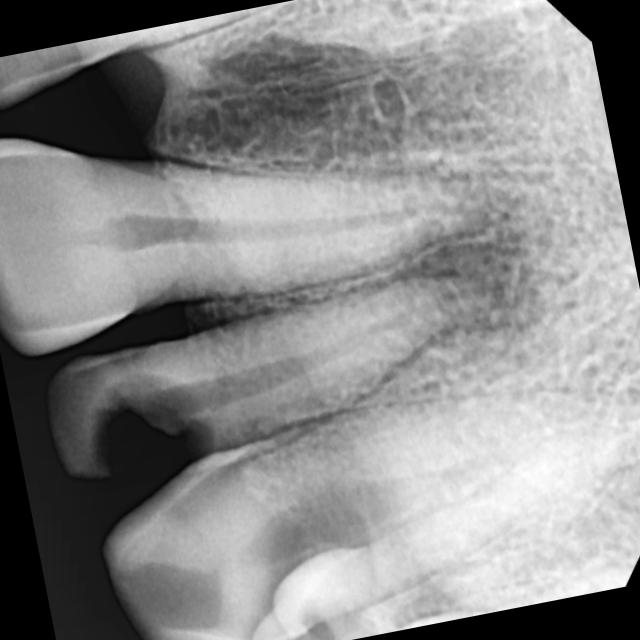Caries: (43, 345, 243, 518)
Normal: (0, 127, 517, 370)
